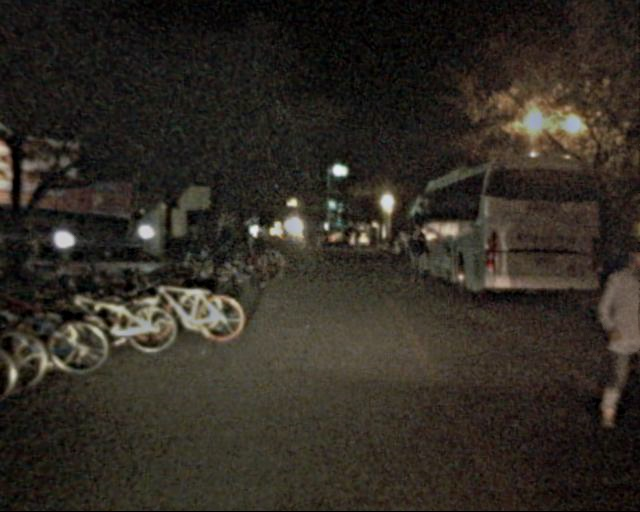person: (584, 242, 640, 434), (404, 225, 432, 293), (255, 220, 274, 266)
